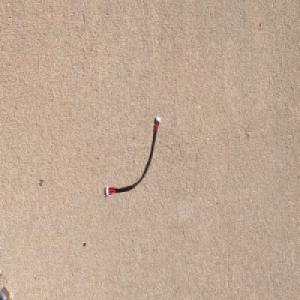Wire: (104, 115, 161, 198)
